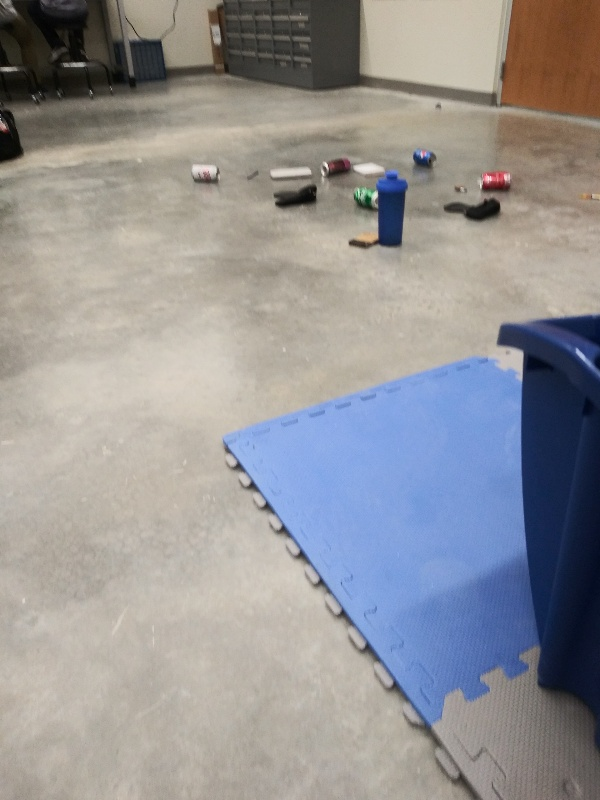can: (475, 170, 513, 193), (351, 184, 380, 213), (189, 161, 222, 183), (318, 157, 352, 178), (413, 146, 437, 170)
